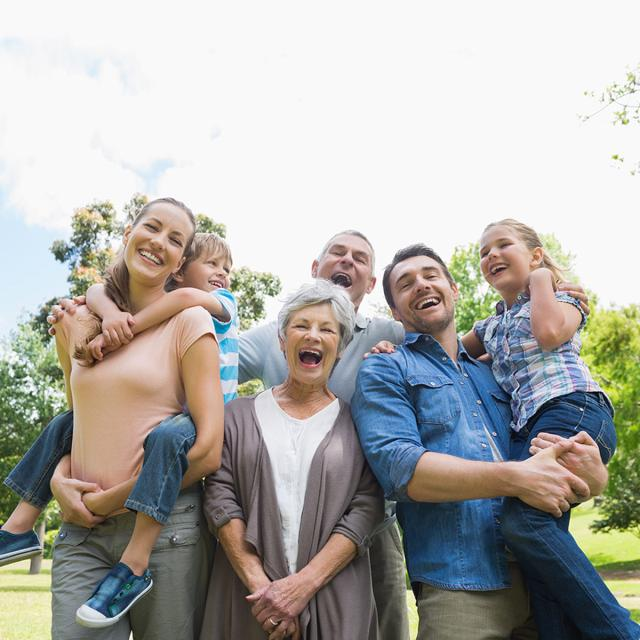adult: (350, 243, 612, 640), (56, 191, 226, 640), (208, 281, 382, 640), (235, 229, 409, 407)
child: (0, 232, 237, 626), (460, 220, 640, 640)
